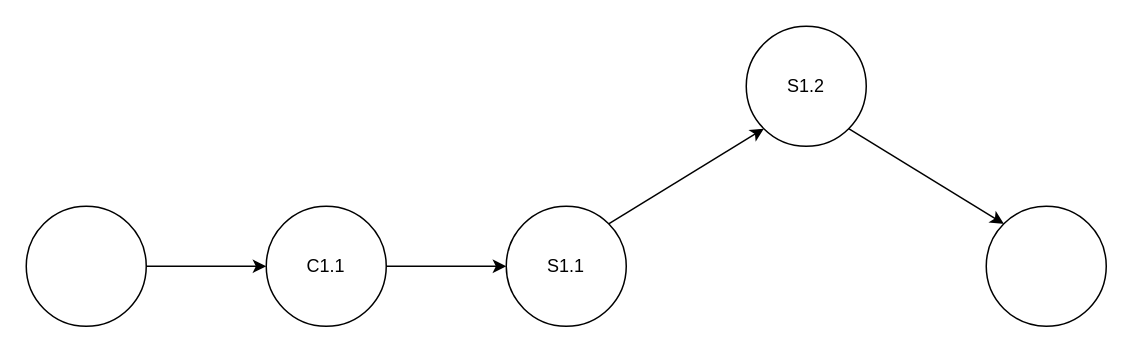
Image size: 1133x353. Some labels were removed from this diagram. The centre of each missing label's shape, as x and y in pixels:
"C1.0" belongs at (85,265).
"C1.2" belongs at (1045,265).
